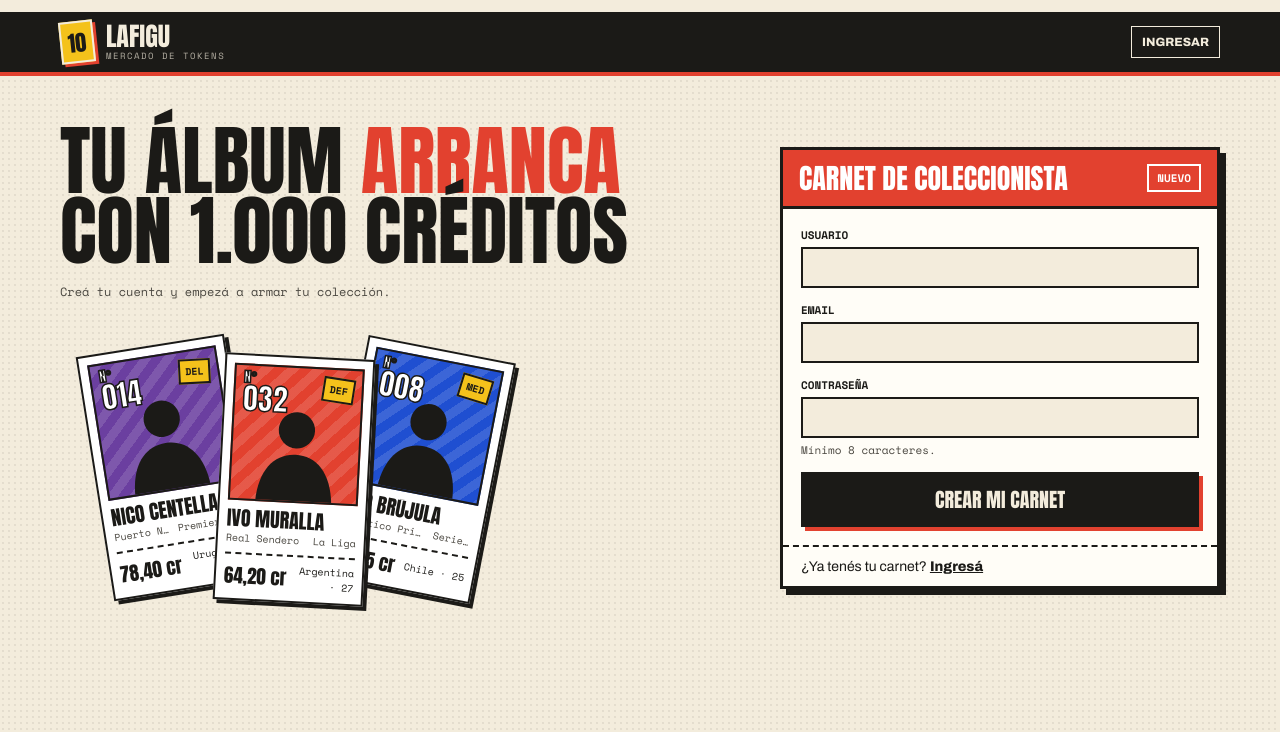
it: RegisterPage › falls back to prefilling login after automatic login fails
Type "abril" into the field labelled "Usuario" at (1000, 268), box [801, 247, 1199, 288]
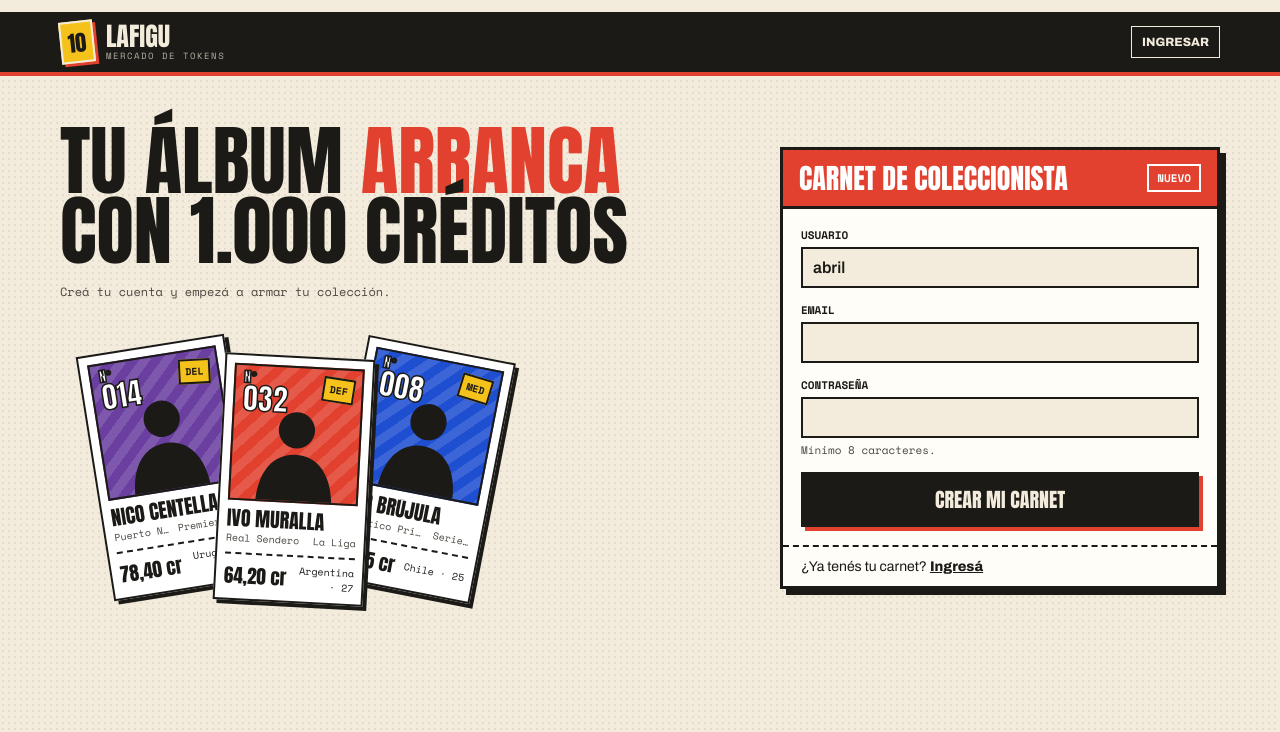
Type "abril@example.com" into the field labelled "Email" at (1000, 342), box [801, 322, 1199, 363]
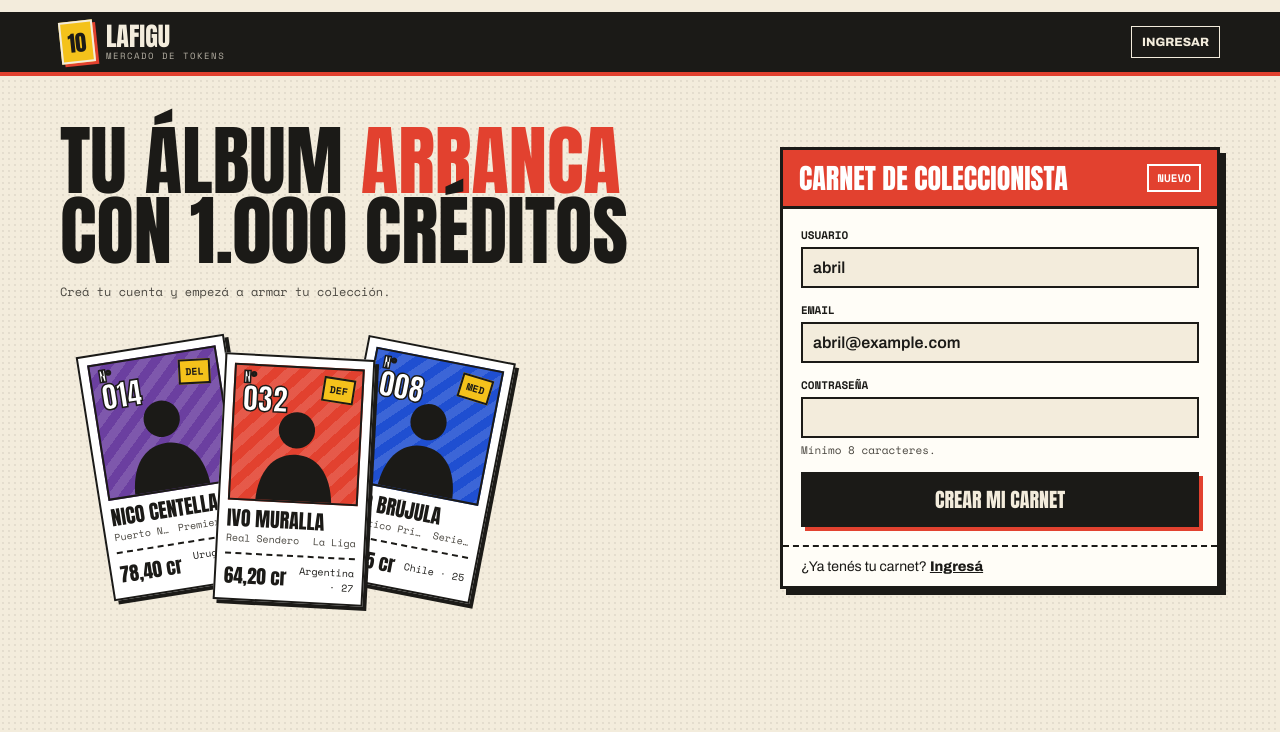
Type "secreto123" into the password field labelled "Contraseña" at (1000, 418), box [801, 397, 1199, 438]
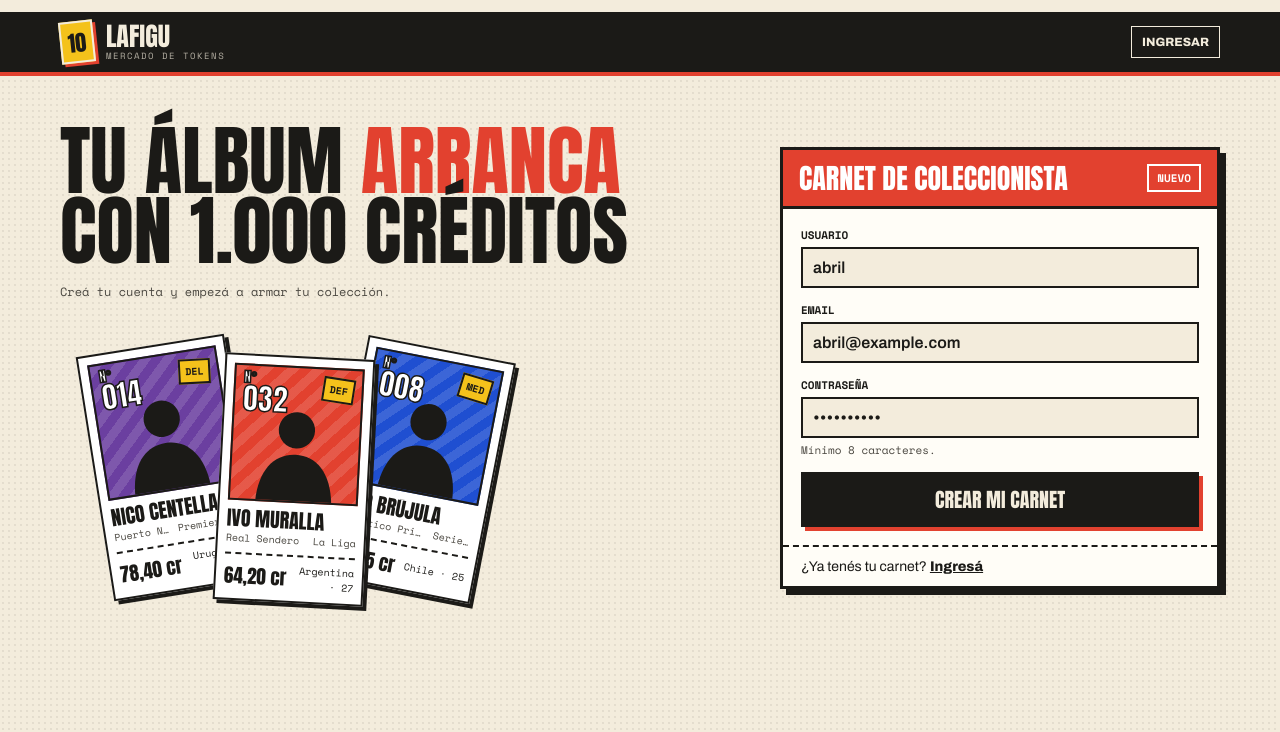
Click the button "Crear mi carnet" at (1000, 500), box [801, 472, 1199, 527]
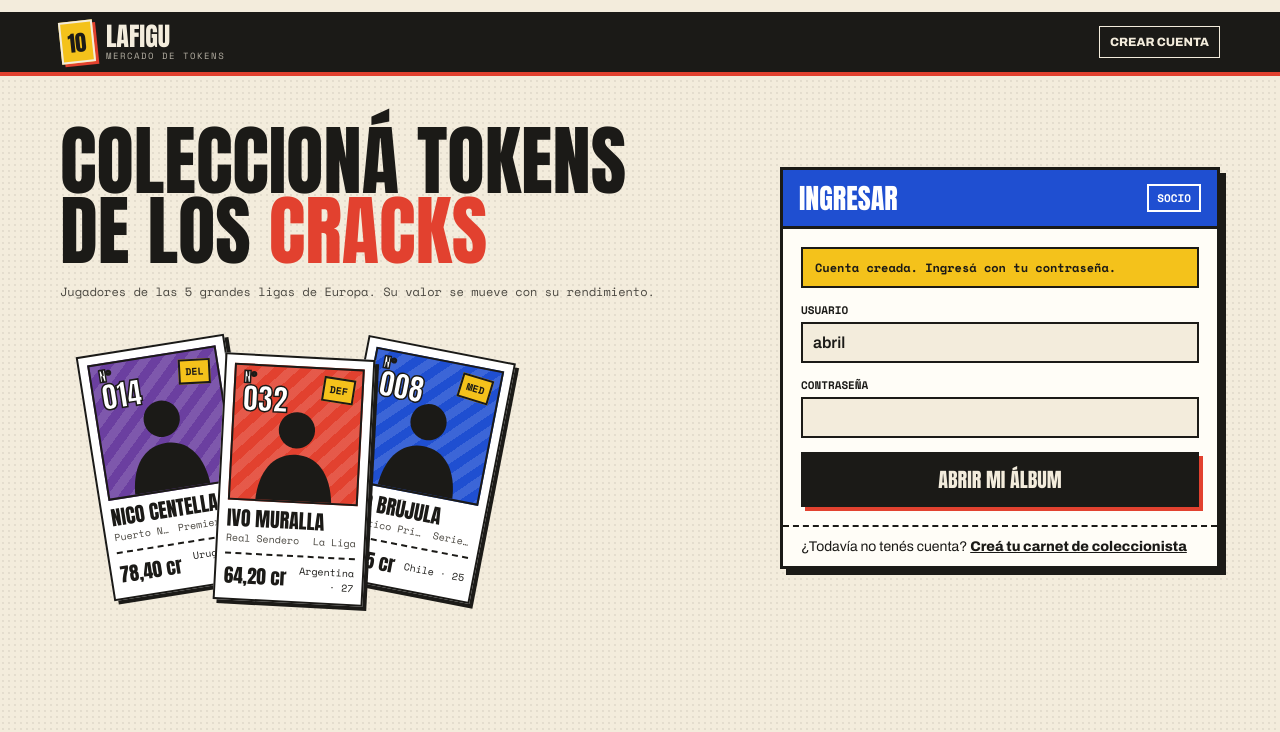
Check: the heading "Ingresar" is shown, box [799, 184, 898, 212]
Check: the field labelled "Usuario" holds "abril", box [801, 322, 1199, 363]
Check: the text "Cuenta creada. Ingresá con tu contraseña." is shown, box [801, 247, 1199, 288]
